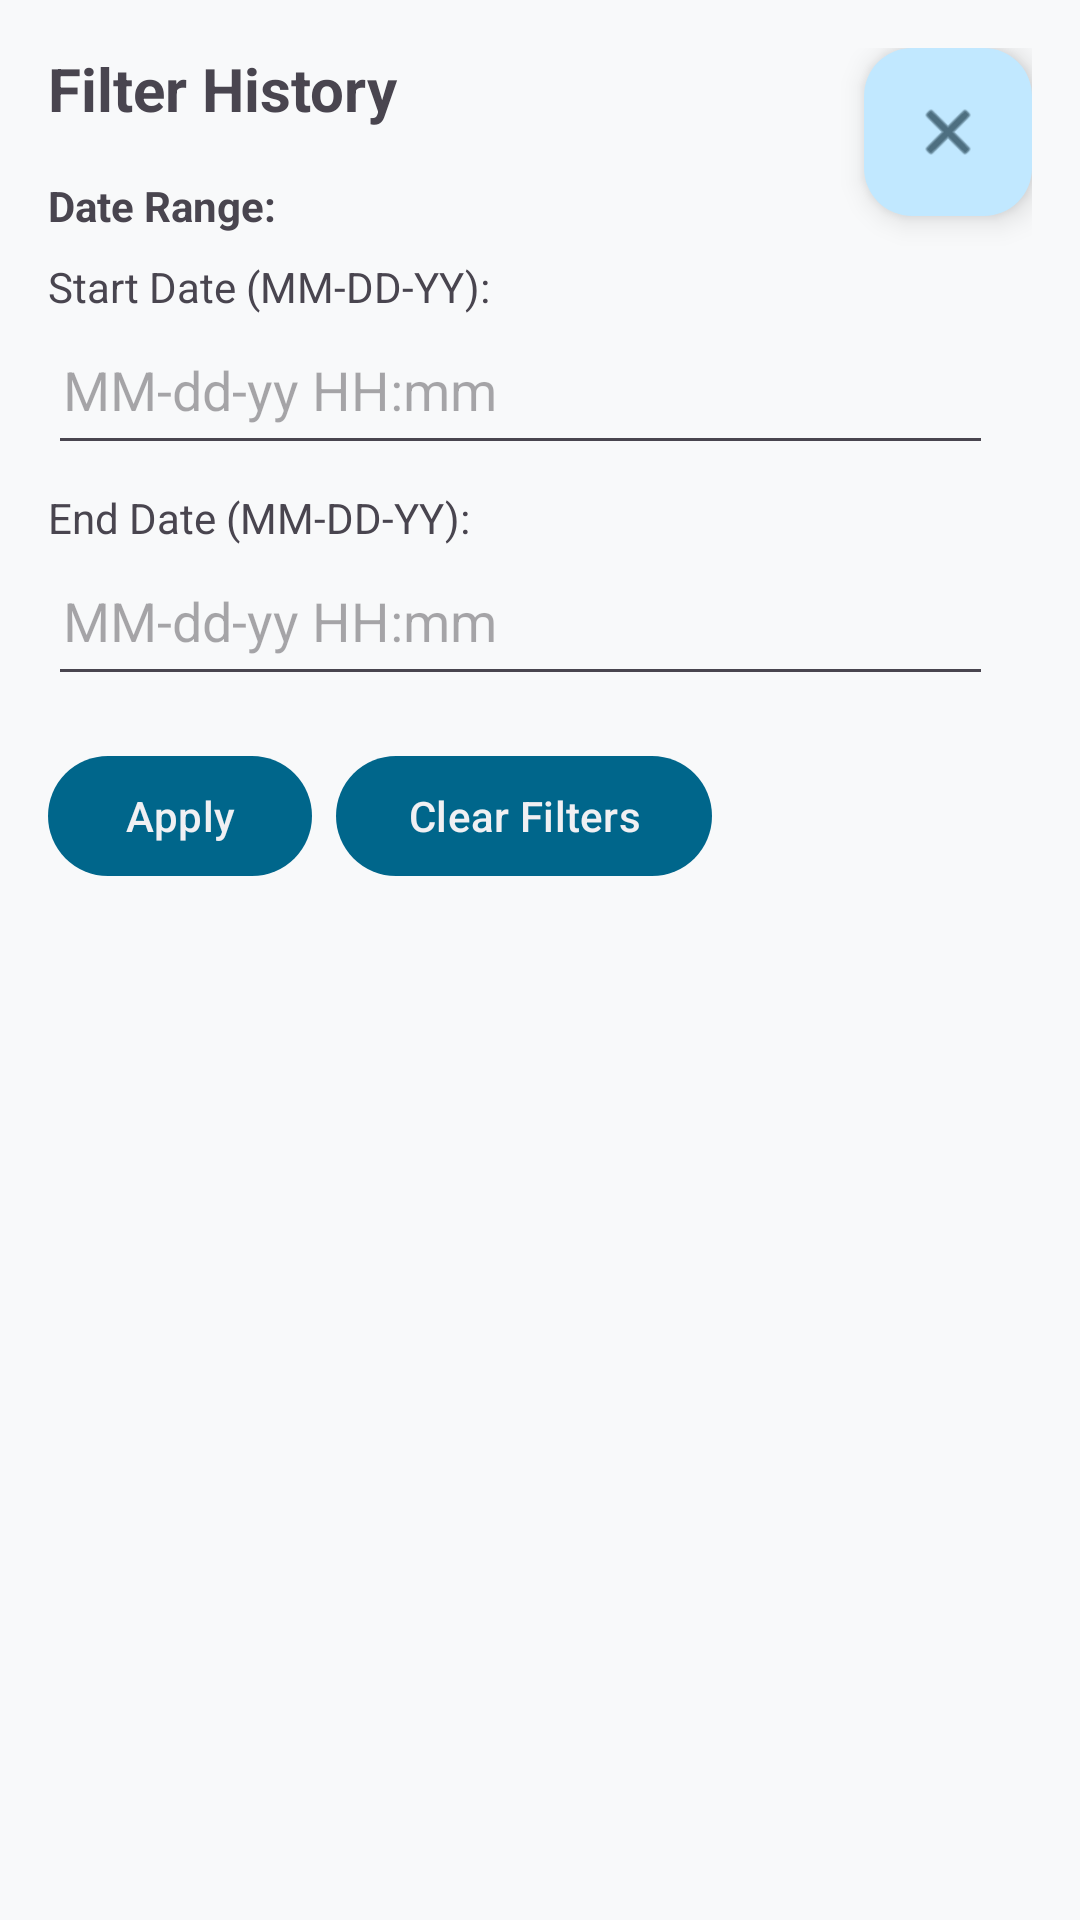

Icons on this 1080 × 1920 Android screen, each with the point to tap as [x,y]:
close clear cancel: [948,132]
